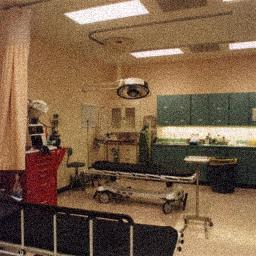Bote de Basura: (206, 158, 235, 192)
